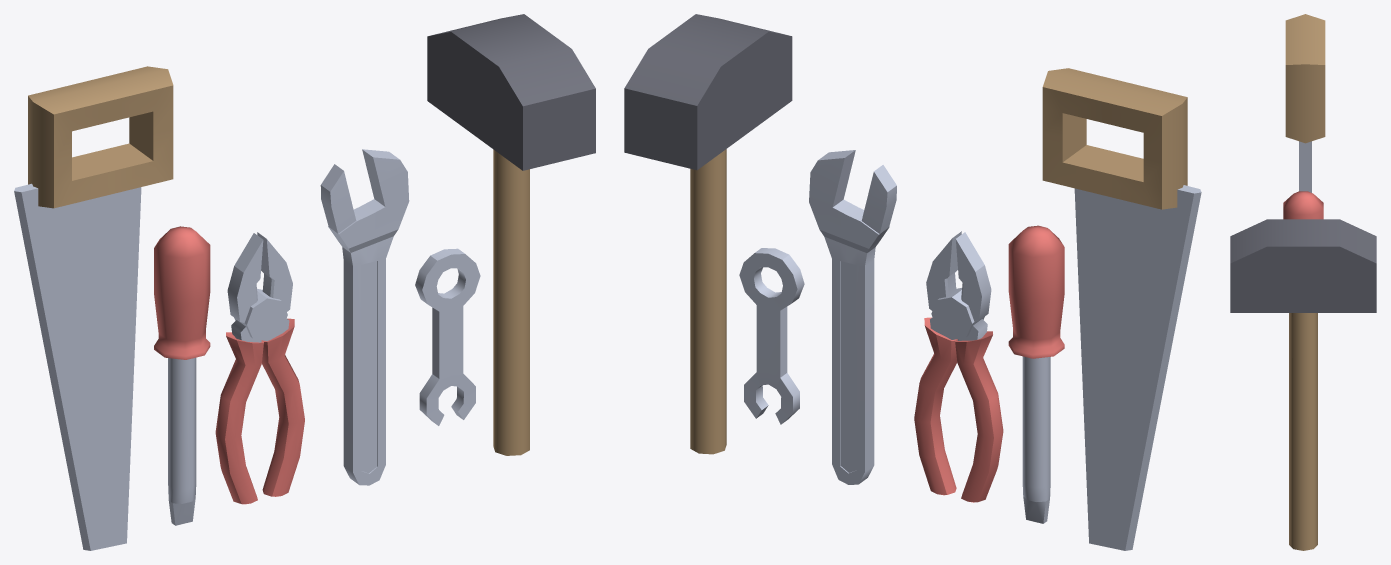
File: Tools (1).fbx
3 views of the same model, side by side, from view 1: azimuth 30°, elevation 25°; view 2: azimuth 150°, elevation 25°; view 3: azimuth 270°, elevation 25° (orthographic). The views are drawn at different scales.
Parts seen in each view (by area): view 1: Saw, Hammer, Wrench, Pliers, Screwdriver, Spanner; view 2: Saw, Hammer, Wrench, Pliers, Screwdriver, Spanner; view 3: Hammer, Saw, Screwdriver.
Part boxes in pixels (x1,y1,x2,y2): Saw: (14,66,173,550); Hammer: (427,14,595,455); Wrench: (320,149,409,485); Pliers: (215,232,304,504); Screwdriver: (154,226,210,525); Spanner: (415,248,480,425); Saw: (1042,68,1201,550); Hammer: (624,14,792,454); Wrench: (809,150,896,484); Pliers: (914,231,1003,502); Screwdriver: (1008,225,1064,523); Spanner: (739,248,804,424); Hammer: (1230,219,1376,550); Saw: (1285,14,1325,192); Screwdriver: (1283,191,1323,219).
Size of the model in its own units: 32.45 by 26.86 by 10.09.
